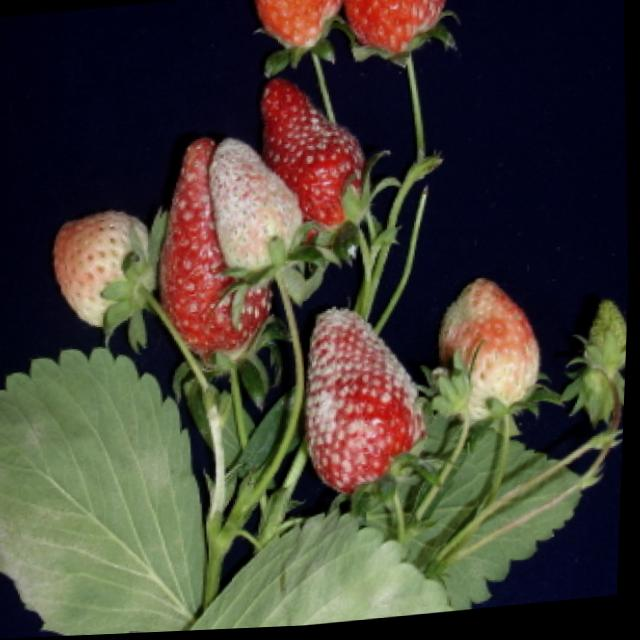Powdery Mildew Fruit: (159, 138, 273, 376), (306, 309, 428, 505), (261, 76, 369, 261), (209, 138, 305, 291), (341, 0, 447, 62), (252, 0, 341, 56)
